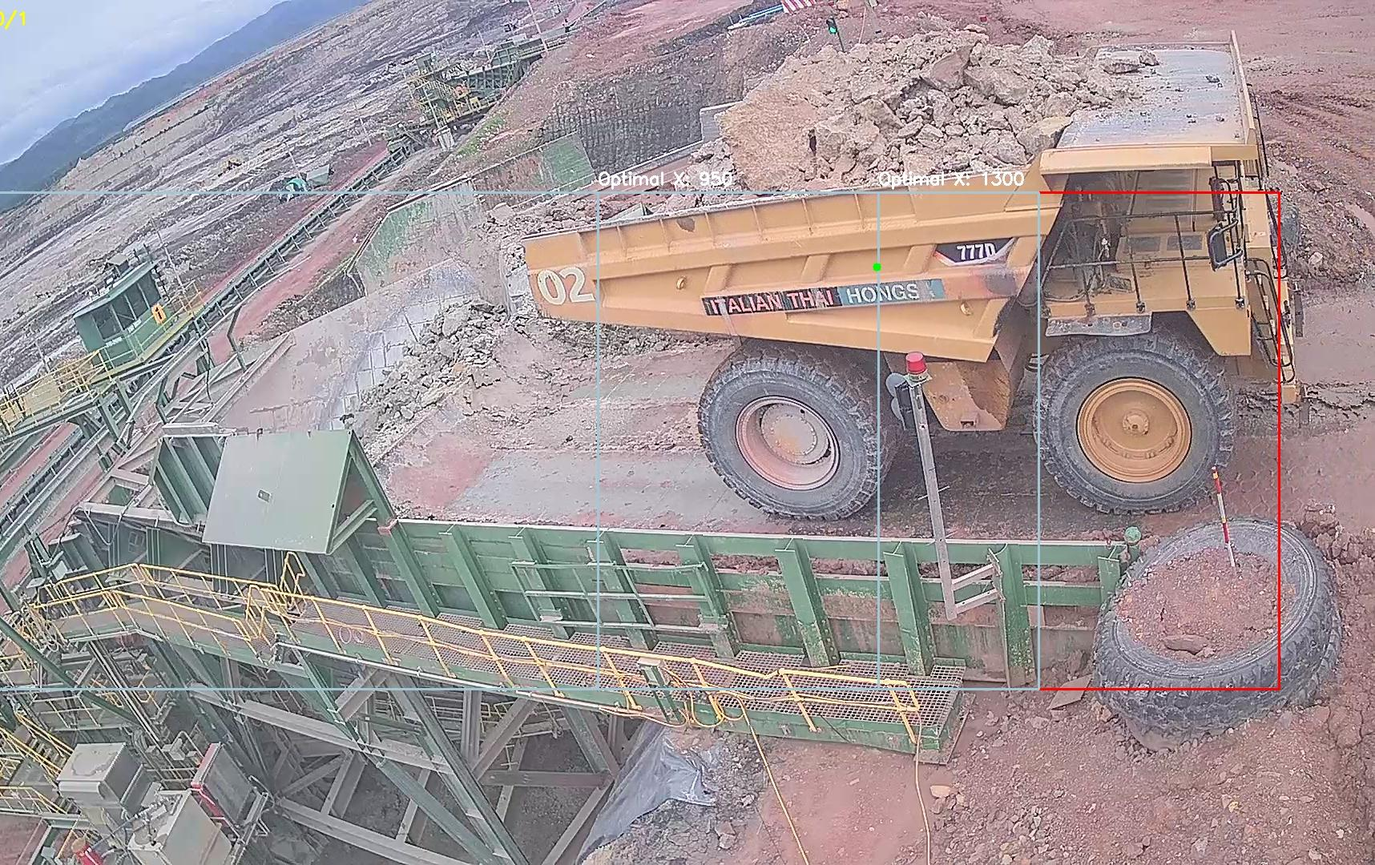company: (685, 275, 964, 323)
full_load: (699, 24, 1070, 198)
mining_truck: (507, 13, 1308, 527)
tail_number: (527, 254, 604, 317)
truck_size: (926, 228, 1020, 271)
